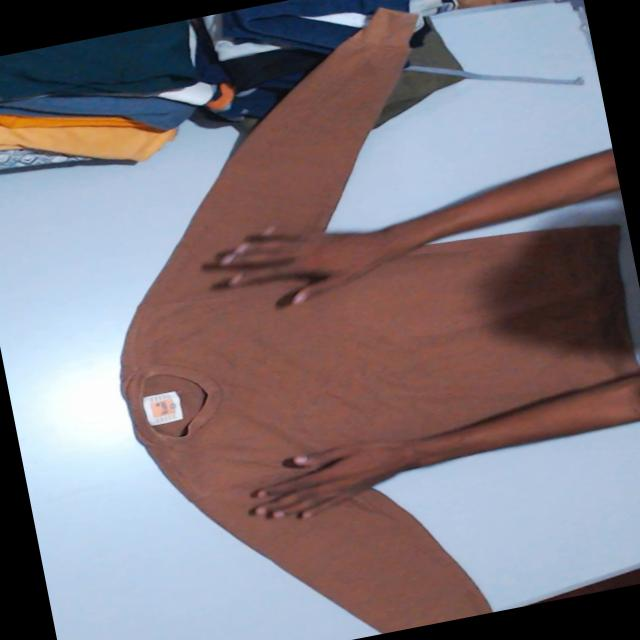new-garment: (121, 16, 637, 633)
